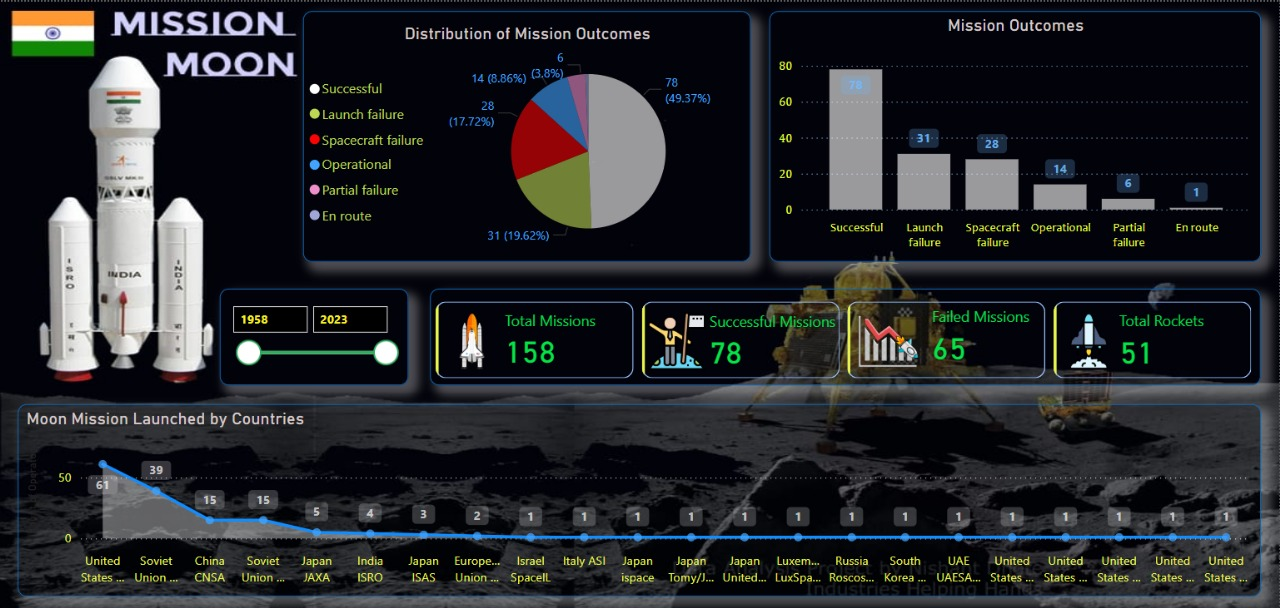

The page's visual inventory and layout, read from the dashboard file:
{"tool":"powerbi","page":{"name":"Page 1","canvas":[1280,720],"ordinal":0},"visuals":[{"type":"slicer","fields":{"Values":["MoonMission.Launch Date.Variation.Date Hierarchy.Year"]},"box":[219.8,295.8,188.5,96.9],"z":0},{"type":"columnChart","title":"Mission Outcomes","fields":{"Category":["MoonMission.Outcome"],"Y":["CountNonNull(MoonMission.Outcome)"]},"box":[769.8,9.4,491.7,264.6],"z":1000},{"type":"pieChart","title":"Distribution of Mission Outcomes","fields":{"Category":["MoonMission.Outcome"],"Y":["CountNonNull(MoonMission.Outcome)"]},"box":[303.1,9.4,447.9,264.6],"z":2000},{"type":"lineChart","title":"Moon Mission Launched by Countries","fields":{"Category":["MoonMission.Operator"],"Y":["CountNonNull(MoonMission.Operator)"]},"box":[17.7,413.5,1243.8,182.3],"z":3000},{"type":"cardVisual","fields":{"Data":["CountNonNull(MoonMission.Mission)","MoonMission.Successful_Count","MoonMission.Total_Failure_Missions","MoonMission.Unique_Rockets"]},"box":[430.2,296.9,831.2,96.9],"z":3001}]}

Visuals, with their boxes on the page's 1280x720 design canvas (x1, y1, x2, y2). These are canvas units, not pixel positions in the 1280x608 screenshot, which may show the page scaled, cropped or inside an application window:
slicer - MoonMission.Launch Date.Variation.Date Hierarchy.Year: crop(220, 296, 408, 393)
"Mission Outcomes" columnChart: crop(770, 9, 1262, 274)
"Distribution of Mission Outcomes" pieChart: crop(303, 9, 751, 274)
"Moon Mission Launched by Countries" lineChart: crop(18, 414, 1262, 596)
cardVisual - CountNonNull(MoonMission.Mission) x MoonMission.Successful_Count: crop(430, 297, 1261, 394)
